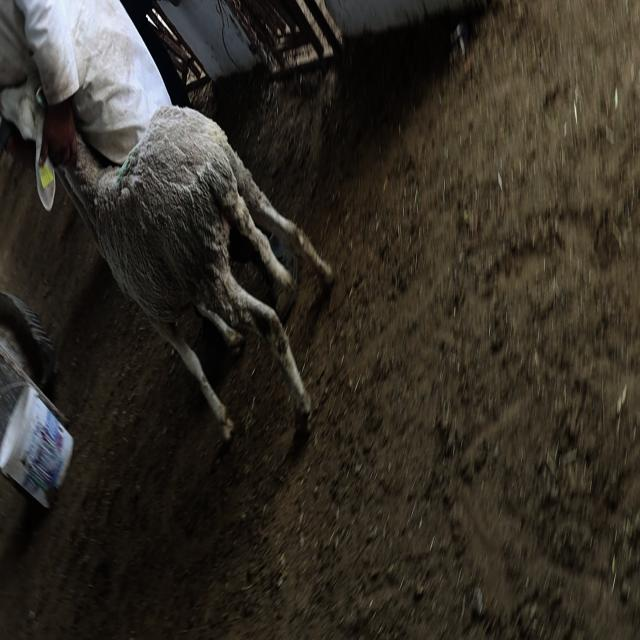Score_1: (56, 106, 334, 441)
